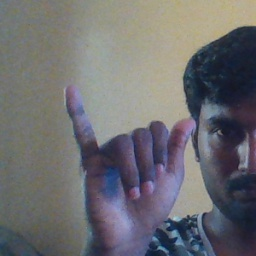J: (56, 84, 198, 240)
